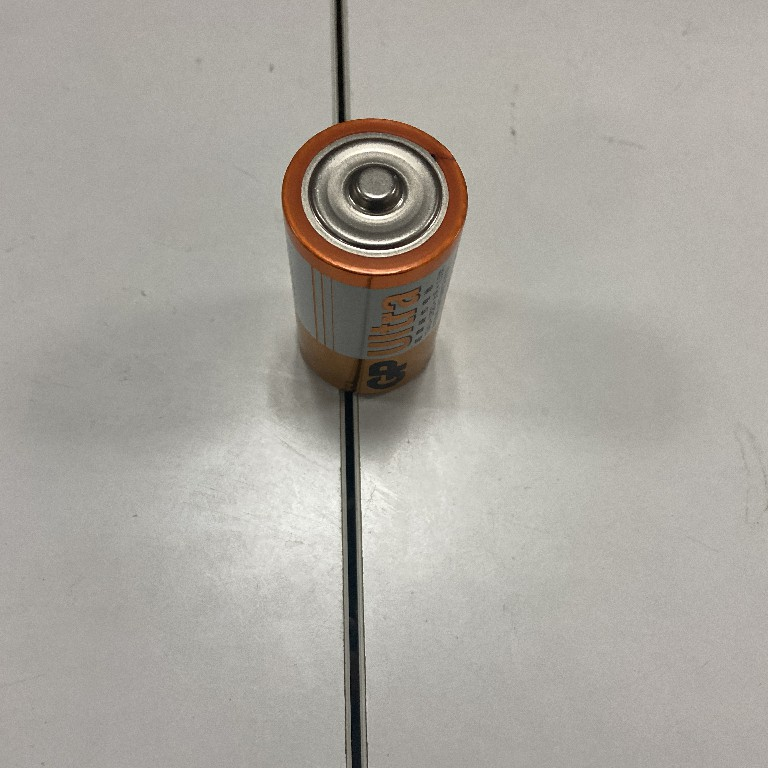charge: (279, 116, 471, 398)
